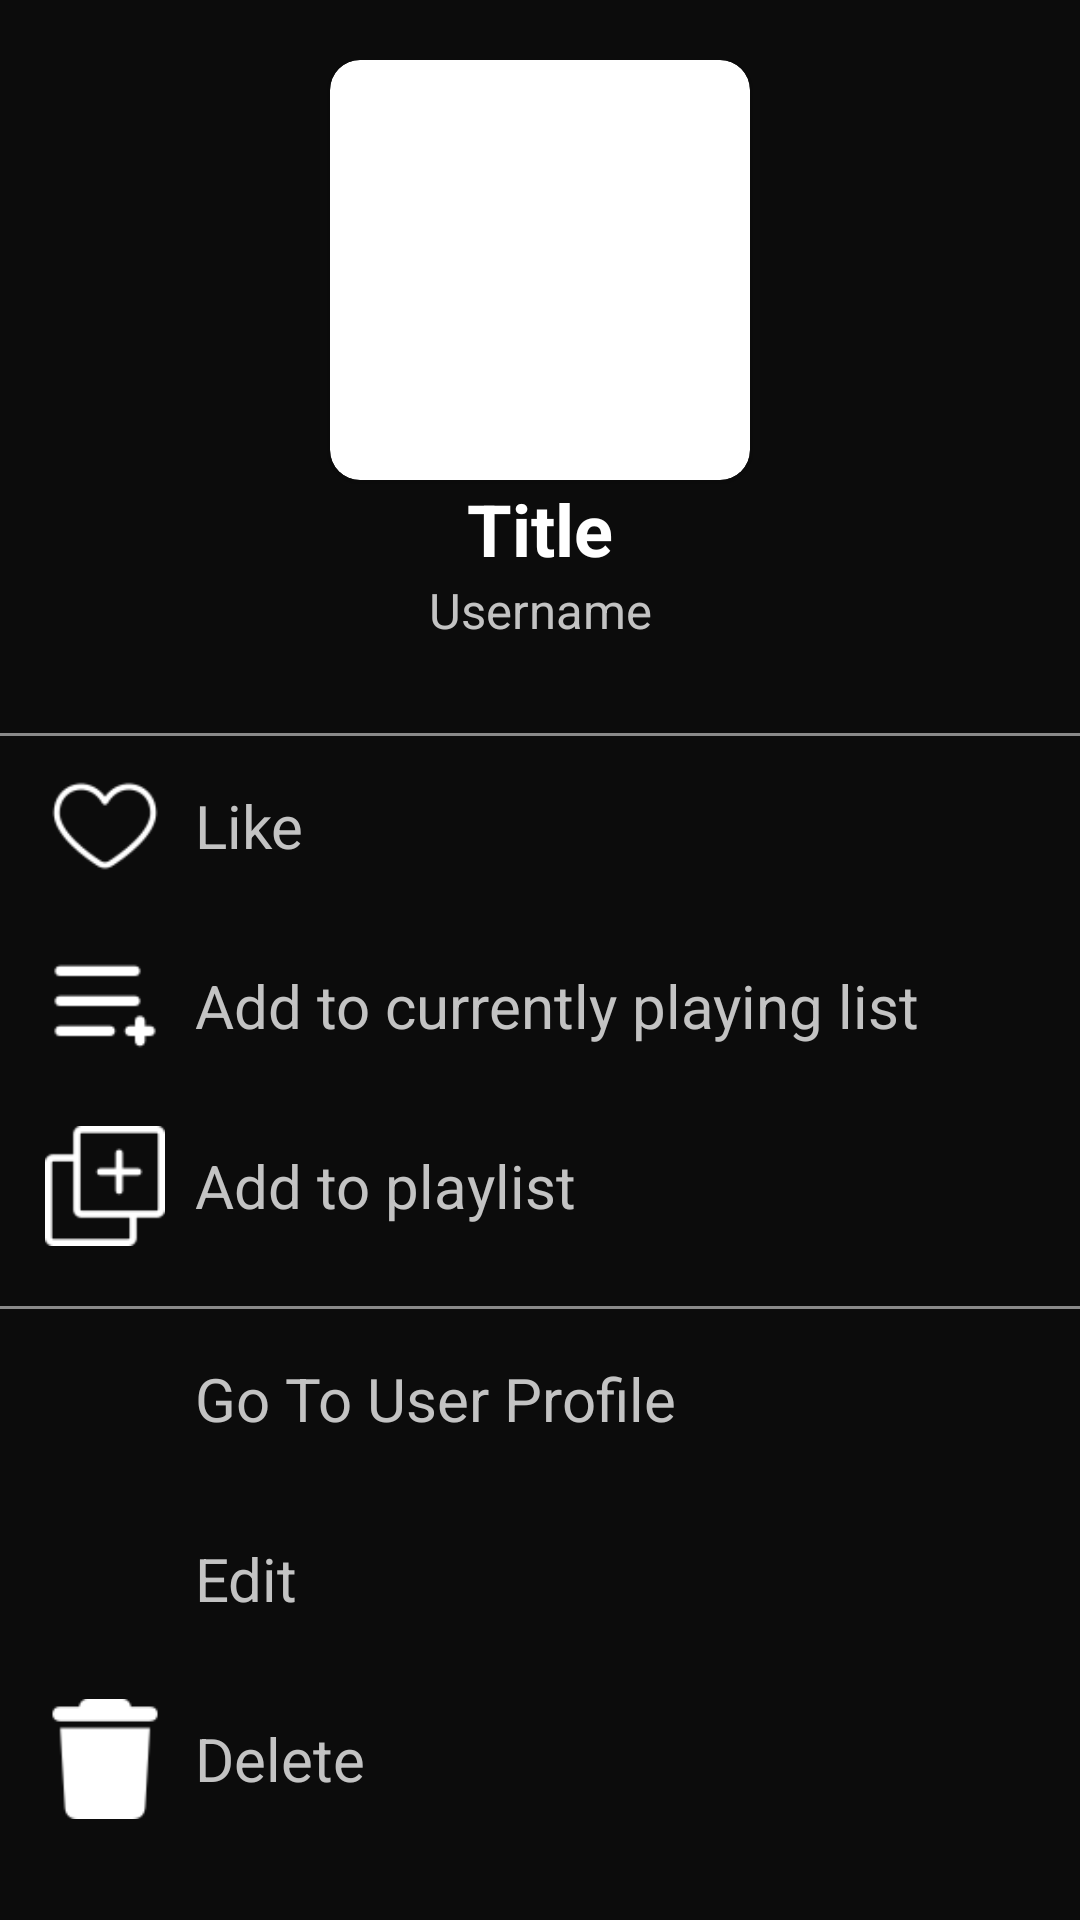

Named icons in this screenshot (1080px x 1920px) and their centers, point (x, y):
add to nextup: point (105, 1005)
heart: point (105, 826)
